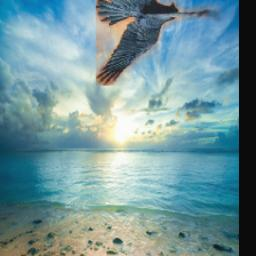Crow: (96, 0, 223, 87)
